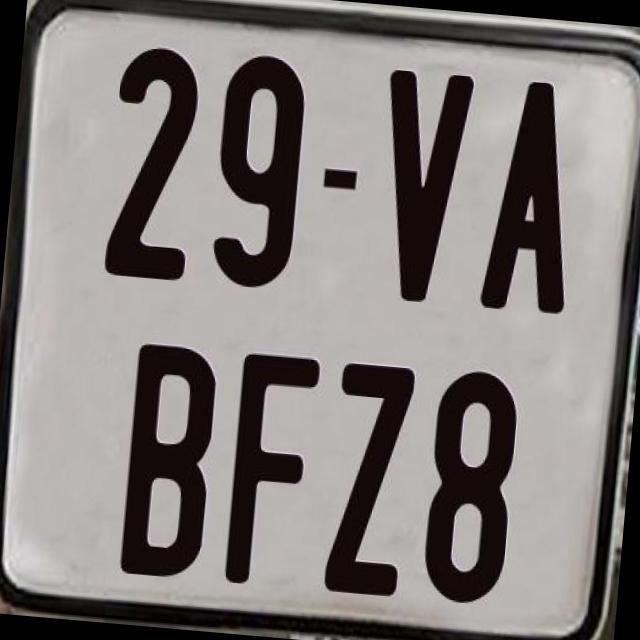2: (102, 41, 208, 287)
8: (417, 366, 524, 604)
9: (205, 49, 312, 298)
A: (475, 78, 583, 320)
B: (118, 338, 225, 584)
F: (218, 350, 320, 596)
V: (366, 67, 476, 313)
Z: (318, 358, 411, 602)
